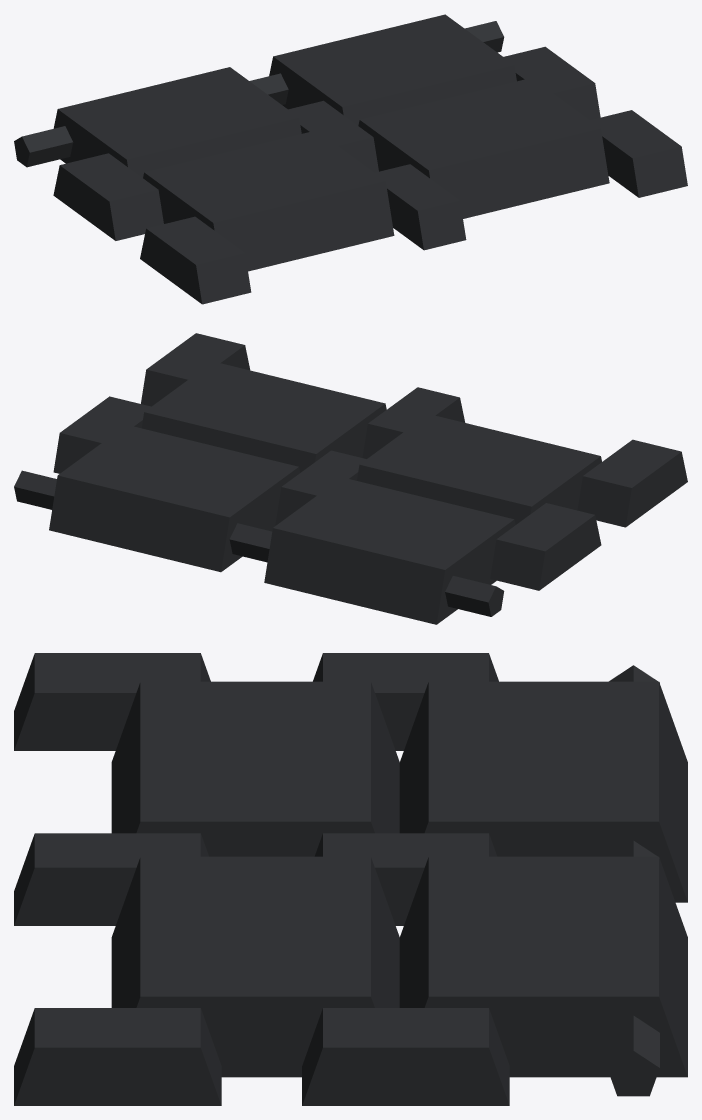
Rendered from SM_Veh_Attach_Track_01.fbx.
3 views of the same model, one above another, from view 1: azimuth 30°, elevation 25°; view 2: azimuth 150°, elevation 25°; view 3: azimuth 270°, elevation 25° (orthographic). The views are drawn at different scales.
Visible parts, largest first — view 1: SM_Veh_Attach_Track_01; view 2: SM_Veh_Attach_Track_01; view 3: SM_Veh_Attach_Track_01.
Part boxes in pixels (bbox=[...]): SM_Veh_Attach_Track_01: bbox=[14, 14, 687, 304]; SM_Veh_Attach_Track_01: bbox=[14, 333, 687, 624]; SM_Veh_Attach_Track_01: bbox=[14, 653, 687, 1105].
Bounding box in the file's own units: 81 × 7.74 × 58.45.
